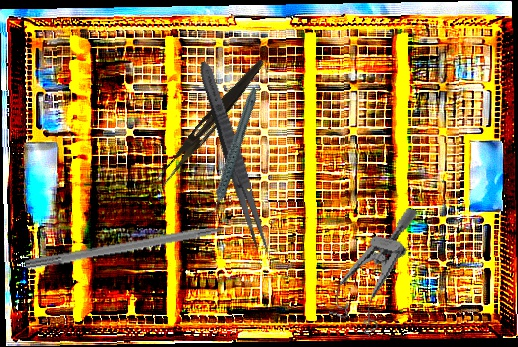Dressing Forceps: (193, 58, 275, 258), (154, 53, 267, 191)
Handpiece: (181, 86, 283, 218)
Pusher: (24, 218, 257, 273)
Speculum: (325, 195, 419, 341)
